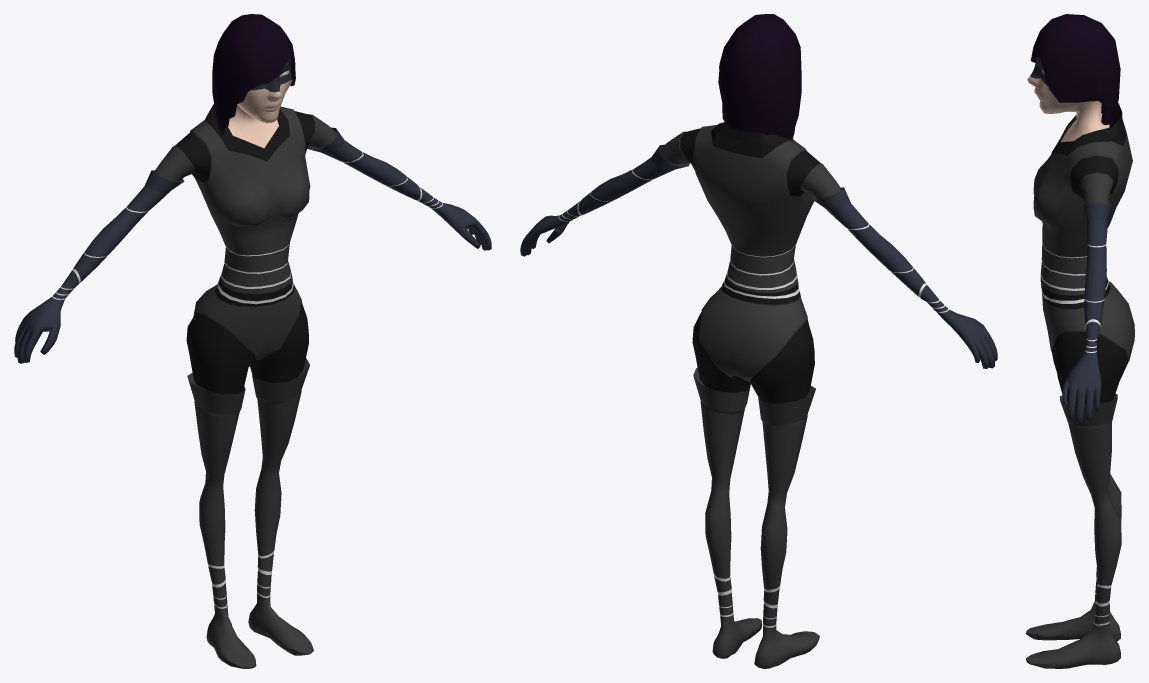
Rendered from Aunt Jackie.fbx.
3 renders of one model, left to right at view 1: azimuth 30°, elevation 25°; view 2: azimuth 150°, elevation 25°; view 3: azimuth 270°, elevation 25°, orthographic.
Visible parts, largest first — view 1: polySurface2; view 2: polySurface2; view 3: polySurface2.
Boxes of the visible parts, x1=… form: polySurface2: x1=14, y1=14, x2=491, y2=668; polySurface2: x1=520, y1=14, x2=997, y2=668; polySurface2: x1=1026, y1=14, x2=1134, y2=668.
Bounding box in the file's own units: 16.66 × 21.47 × 3.33.
